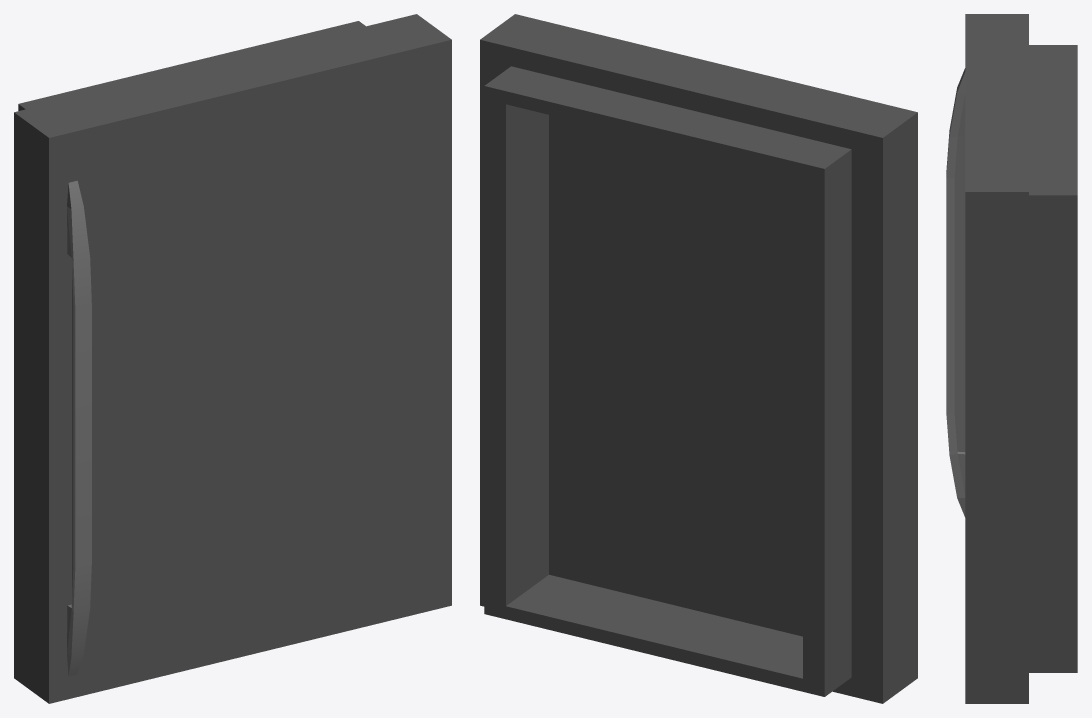
File: Itr_Obj_Fridge2_Top_Door_06.FBX
The picture shows the model from 3 angles, left to right: view 1: azimuth 30°, elevation 25°; view 2: azimuth 150°, elevation 25°; view 3: azimuth 270°, elevation 25°; orthographic projection. The views are drawn at different scales.
Parts seen in each view (by area): view 1: Itr_Obj_Fridge2_Top_Door_06; view 2: Itr_Obj_Fridge2_Top_Door_06; view 3: Itr_Obj_Fridge2_Top_Door_06.
Part boxes in pixels (left/top/right/bottom): Itr_Obj_Fridge2_Top_Door_06: left=14, top=14, right=451, bottom=703; Itr_Obj_Fridge2_Top_Door_06: left=480, top=14, right=917, bottom=703; Itr_Obj_Fridge2_Top_Door_06: left=946, top=14, right=1077, bottom=703.
Size of the model in its own units: 34.44 by 46.23 by 10.74.
